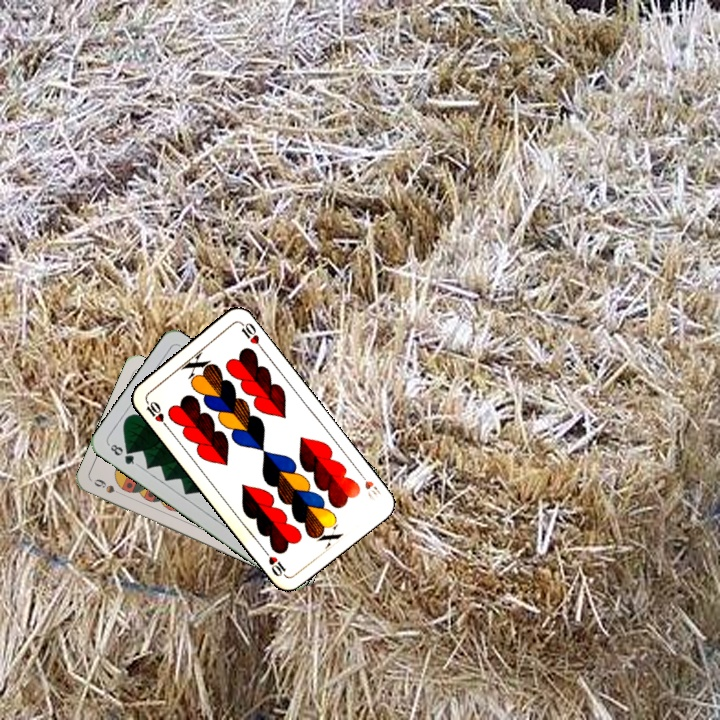G8: (105, 440, 140, 468)
H10: (141, 395, 170, 430), (354, 467, 383, 497)
S9: (90, 475, 128, 498)
